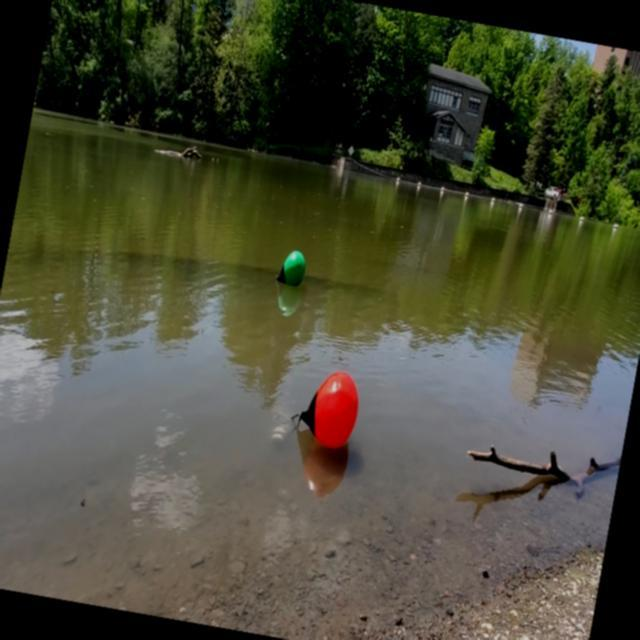buoy: (284, 359, 368, 457), (272, 245, 310, 295)
